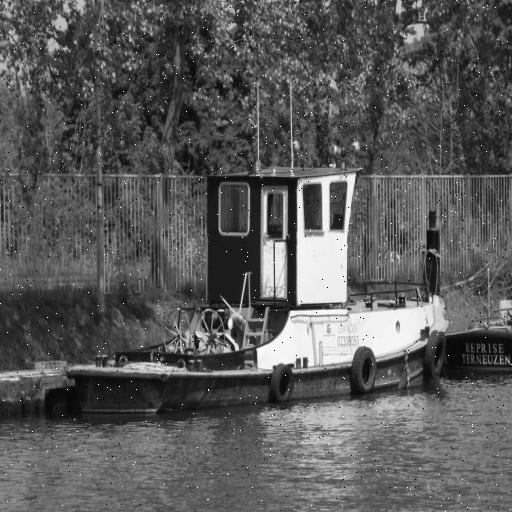tugboat: (62, 154, 451, 410)
